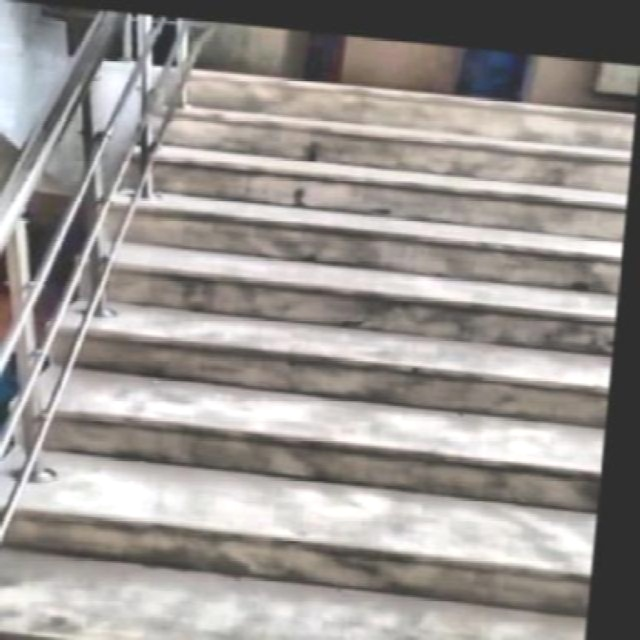stair: (74, 57, 635, 638)
